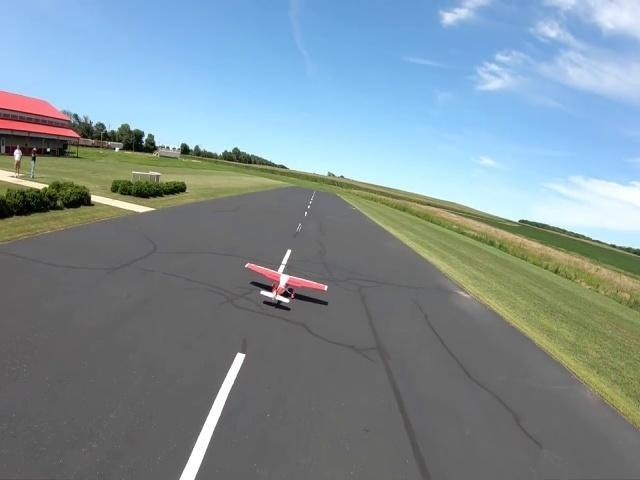Airplane: (244, 262, 329, 304)
